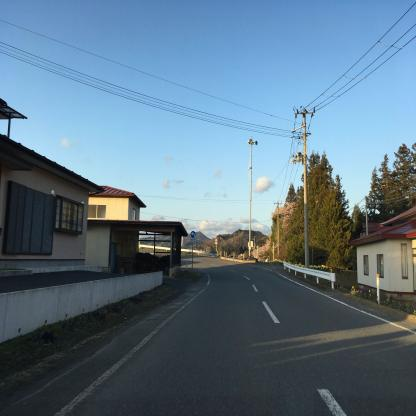Someiyoshino: (246, 195, 297, 261)
